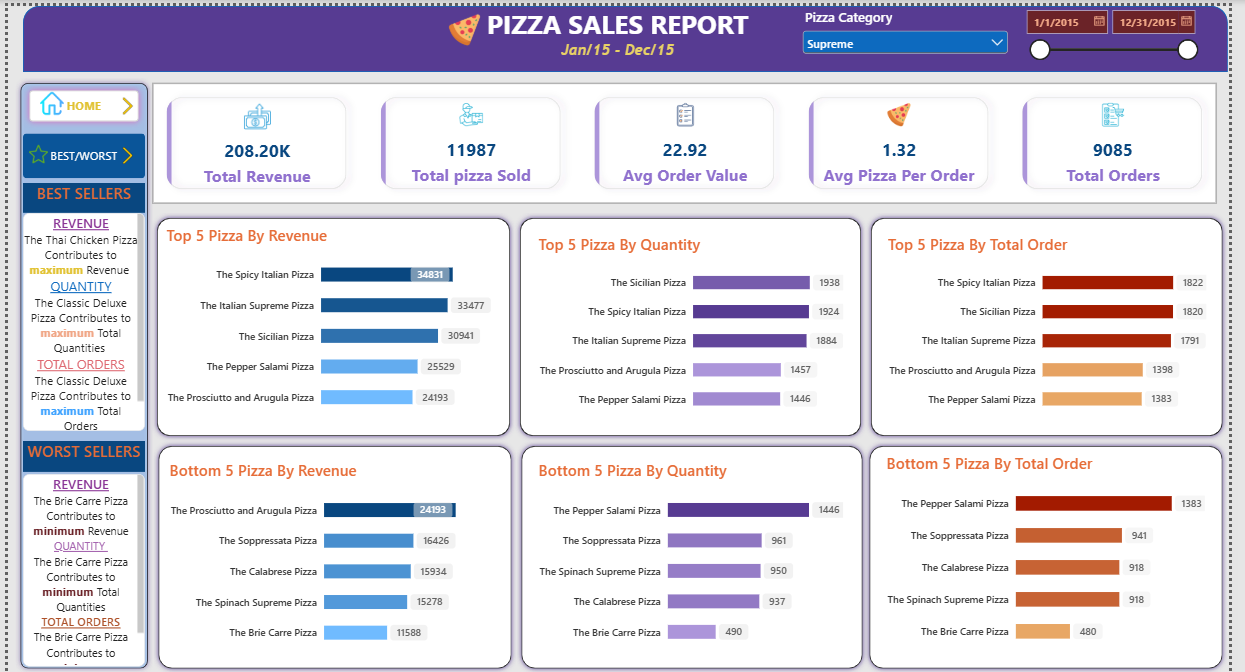

Layout of this report page (visuals, bound fields, positions):
{"tool":"powerbi","page":{"name":"BEST/WORST","canvas":[1500,820],"ordinal":1},"visuals":[{"type":"cardVisual","fields":{"Data":["public pizza_sales.Total Revenue","public pizza_sales.Total pizza Sold","public pizza_sales.avg_amount_spent_per_order","public pizza_sales.Average Pizza Per Order","public pizza_sales.Total Orders"]},"box":[177.7,94.5,1312.2,149.4],"z":0},{"type":"shape","box":[17.8,0,1481.1,81.1],"z":1000},{"type":"textbox","box":[529.6,0,440.7,59],"z":2000},{"type":"textbox","box":[621.5,42.4,256.3,51.6],"z":3000},{"type":"image","box":[529.3,7.4,63.3,43.3],"z":4000},{"type":"shape","box":[178.9,534.8,446.3,285.8],"z":9000},{"type":"shape","box":[625.2,534.8,431.5,285.8],"z":10000},{"type":"shape","box":[1053,534.8,446.3,285.8],"z":11000},{"type":"shape","box":[8.9,87.8,168.9,732.2],"z":15000},{"type":"textbox","box":[17.8,217.8,150,36.7],"z":16000},{"type":"textbox","box":[18.1,254.2,150,268.1],"z":17000},{"type":"textbox","box":[17.8,574.4,150,236.7],"z":18000},{"type":"textbox","box":[17.8,535.6,150,37.8],"z":19000},{"type":"slicer","fields":{"Values":["public pizza_sales.pizza_category"]},"box":[971.2,2.5,262.3,81.1],"z":20000},{"type":"slicer","fields":{"Values":["public pizza_sales.order_date"]},"box":[1245,0,221.2,73.8],"z":21000},{"type":"shape","box":[177,254.5,446.3,280.3],"z":21001},{"type":"shape","box":[623.3,254.5,431.5,280.3],"z":21002},{"type":"shape","box":[1054.8,254.5,444.4,280.3],"z":21003},{"type":"barChart","title":"Top 5 Pizza By Revenue","fields":{"Category":["public pizza_sales.pizza_name"],"Y":["public pizza_sales.Total Revenue"]},"box":[178.9,254.5,431.5,267.4],"z":21004},{"type":"barChart","title":"Bottom 5 Pizza By Revenue","fields":{"Category":["public pizza_sales.pizza_name"],"Y":["public pizza_sales.Total Revenue"]},"box":[183.3,544.4,431.5,267.4],"z":21005},{"type":"barChart","title":"Top 5 Pizza By Quantity","fields":{"Category":["public pizza_sales.pizza_name"],"Y":["public pizza_sales.Total pizza Sold"]},"box":[636.4,264.9,406.5,257.1],"z":21006},{"type":"barChart","title":"Bottom 5 Pizza By Quantity","fields":{"Category":["public pizza_sales.pizza_name"],"Y":["public pizza_sales.Total pizza Sold"]},"box":[636.4,544.2,406.5,266.2],"z":21007},{"type":"barChart","title":"Top 5 Pizza By Total Order","fields":{"Category":["public pizza_sales.pizza_name"],"Y":["public pizza_sales.Total Orders"]},"box":[1066.2,266.2,423.4,257.1],"z":21008},{"type":"barChart","title":"Bottom 5 Pizza By Total Order","fields":{"Category":["public pizza_sales.pizza_name"],"Y":["public pizza_sales.Total Orders"]},"box":[1064.5,535.1,423.5,276.1],"z":21009},{"type":"pageNavigator","box":[18.5,96.3,150.9,54.6],"z":21010},{"type":"pageNavigator","box":[18.5,156.5,150.9,55.6],"z":21011},{"type":"image","box":[39,105.5,30.5,29.7],"z":21012},{"type":"image","box":[136.2,140.1,21.1,87.5],"z":21013},{"type":"image","box":[136.4,79.3,21.1,87.5],"z":21014},{"type":"image","box":[25.7,141.4,23.6,80],"z":21015}]}

Visuals, with their boxes in screenshot pixels (x1, y1, x2, y2), scaled from the page's 1500x820 canvas onto the 1245x672 screenshot:
cardVisual - public pizza_sales.Total Revenue x public pizza_sales.Total pizza Sold: rect(147, 77, 1237, 200)
shape: rect(15, 0, 1244, 66)
textbox: rect(440, 0, 805, 48)
textbox: rect(516, 35, 729, 77)
image: rect(439, 6, 492, 42)
shape: rect(148, 438, 519, 671)
shape: rect(519, 438, 877, 671)
shape: rect(874, 438, 1244, 671)
shape: rect(7, 72, 148, 671)
textbox: rect(15, 178, 139, 209)
textbox: rect(15, 208, 140, 428)
textbox: rect(15, 471, 139, 665)
textbox: rect(15, 439, 139, 470)
slicer - public pizza_sales.pizza_category: rect(806, 2, 1024, 69)
slicer - public pizza_sales.order_date: rect(1033, 0, 1217, 60)
shape: rect(147, 209, 517, 438)
shape: rect(517, 209, 875, 438)
shape: rect(875, 209, 1244, 438)
"Top 5 Pizza By Revenue" barChart: rect(148, 209, 507, 428)
"Bottom 5 Pizza By Revenue" barChart: rect(152, 446, 510, 665)
"Top 5 Pizza By Quantity" barChart: rect(528, 217, 866, 428)
"Bottom 5 Pizza By Quantity" barChart: rect(528, 446, 866, 664)
"Top 5 Pizza By Total Order" barChart: rect(885, 218, 1236, 429)
"Bottom 5 Pizza By Total Order" barChart: rect(884, 439, 1235, 665)
pageNavigator: rect(15, 79, 141, 124)
pageNavigator: rect(15, 128, 141, 174)
image: rect(32, 86, 58, 111)
image: rect(113, 115, 131, 187)
image: rect(113, 65, 131, 137)
image: rect(21, 116, 41, 181)
